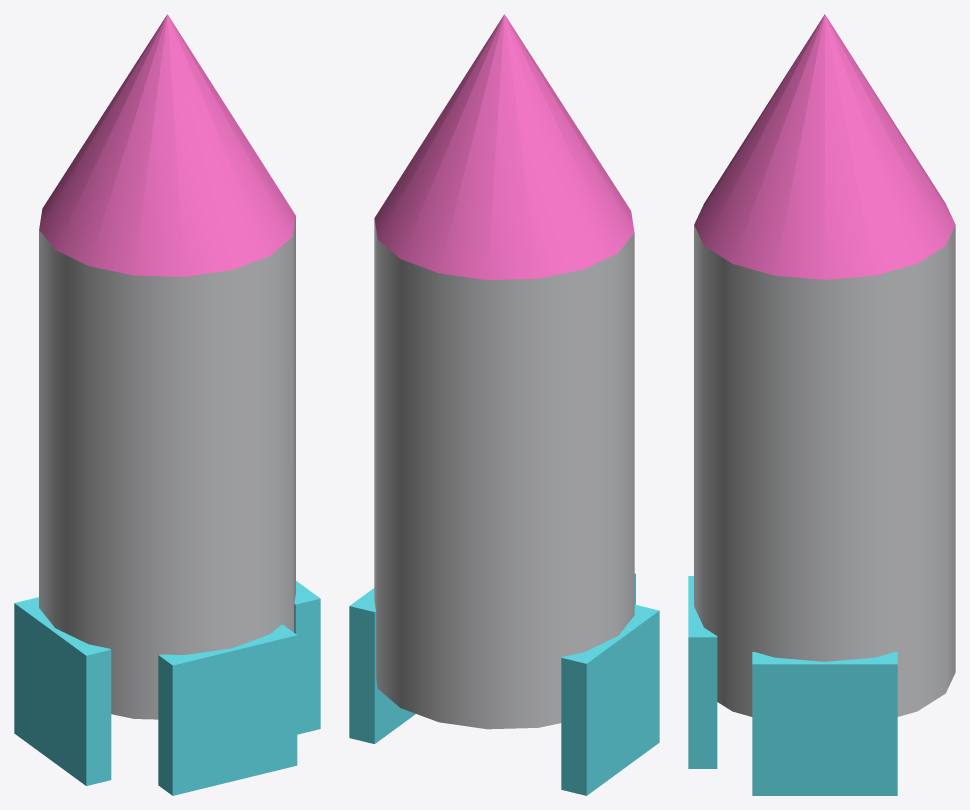
File: retro_rocket.glb
3 views of the same model, side by side, from view 1: azimuth 30°, elevation 25°; view 2: azimuth 150°, elevation 25°; view 3: azimuth 270°, elevation 25° (orthographic).
Size of the model in its own units: 0.94 by 2.75 by 0.92.
